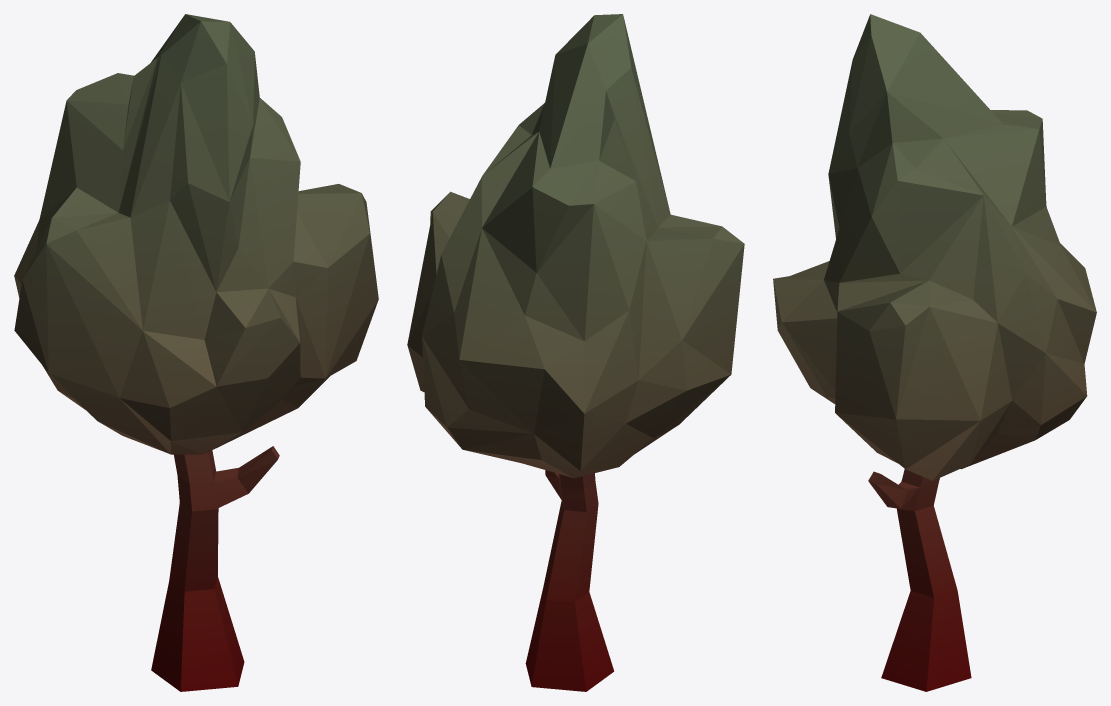
Rendered from synty-tree-01.gltf.
The picture shows the model from 3 angles, left to right: view 1: azimuth 30°, elevation 25°; view 2: azimuth 150°, elevation 25°; view 3: azimuth 270°, elevation 25°; orthographic projection. The views are drawn at different scales.
Visible parts, largest first — view 1: SM_Tree_01; view 2: SM_Tree_01; view 3: SM_Tree_01.
Part boxes in pixels (bbox=[...]): SM_Tree_01: bbox=[14, 14, 378, 691]; SM_Tree_01: bbox=[407, 14, 744, 691]; SM_Tree_01: bbox=[773, 14, 1096, 691].
Bounding box in the file's own units: 3.18 × 6.21 × 2.83.
1 material, 1 textured.
